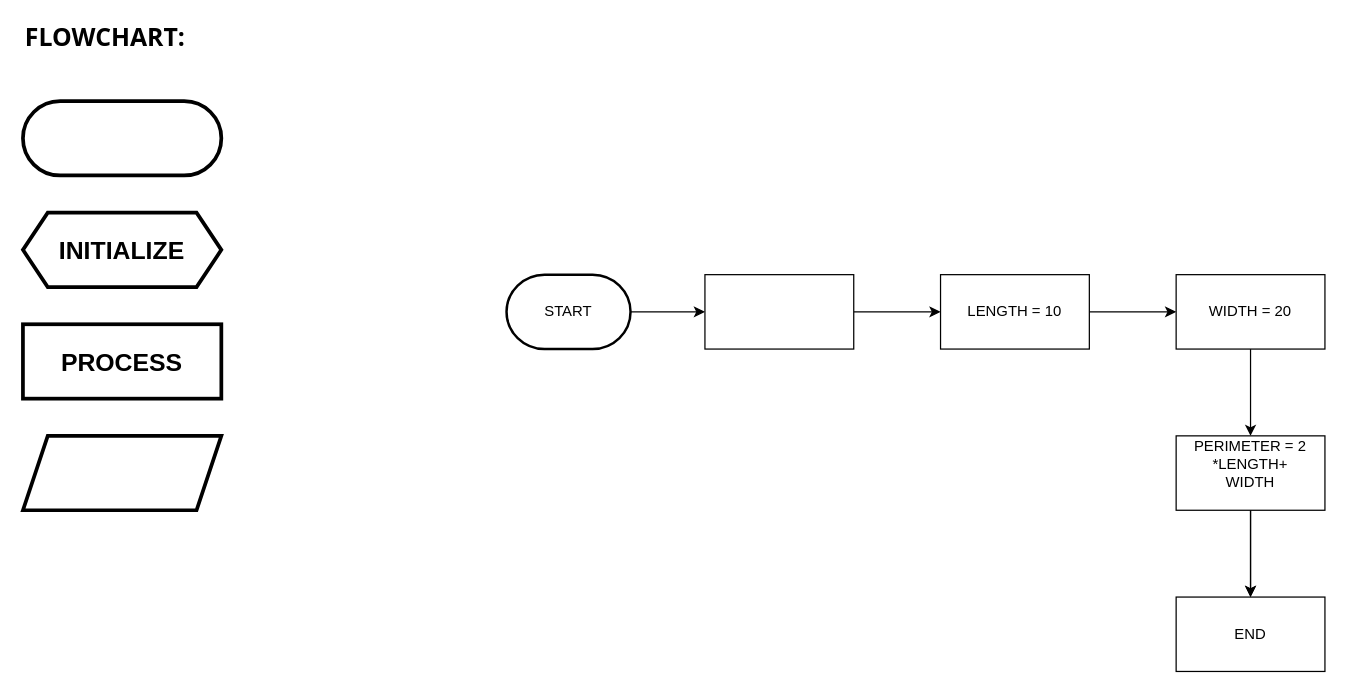
Image size: 1347x693. Some labels were removed from this diagram. The shapes that lost their labels are listed below. From the top down, each one's centre as x and y in pixels, then its label:
At (121,138): "START / END".
At (779,311): "PERIMETER, LENGTH, WIDTH".
At (121,472): "INPUT / OUTPUT".
